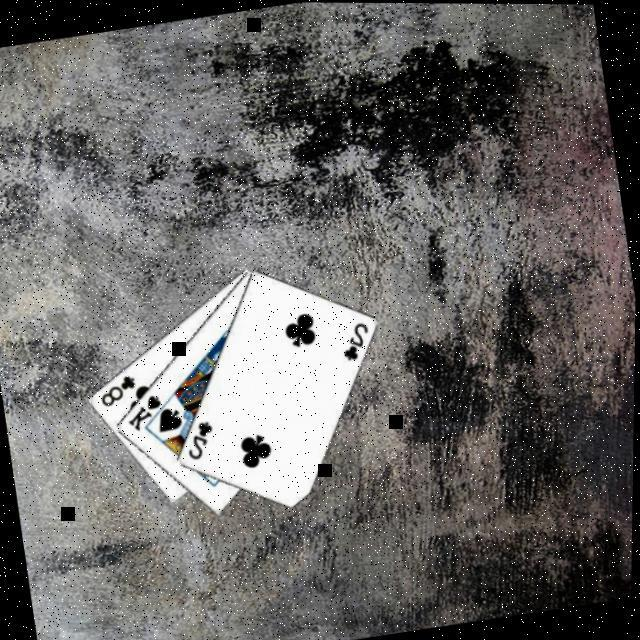2C: (180, 415, 220, 462), (335, 316, 375, 363)
8C: (93, 369, 140, 409)
KS: (120, 389, 168, 433)
